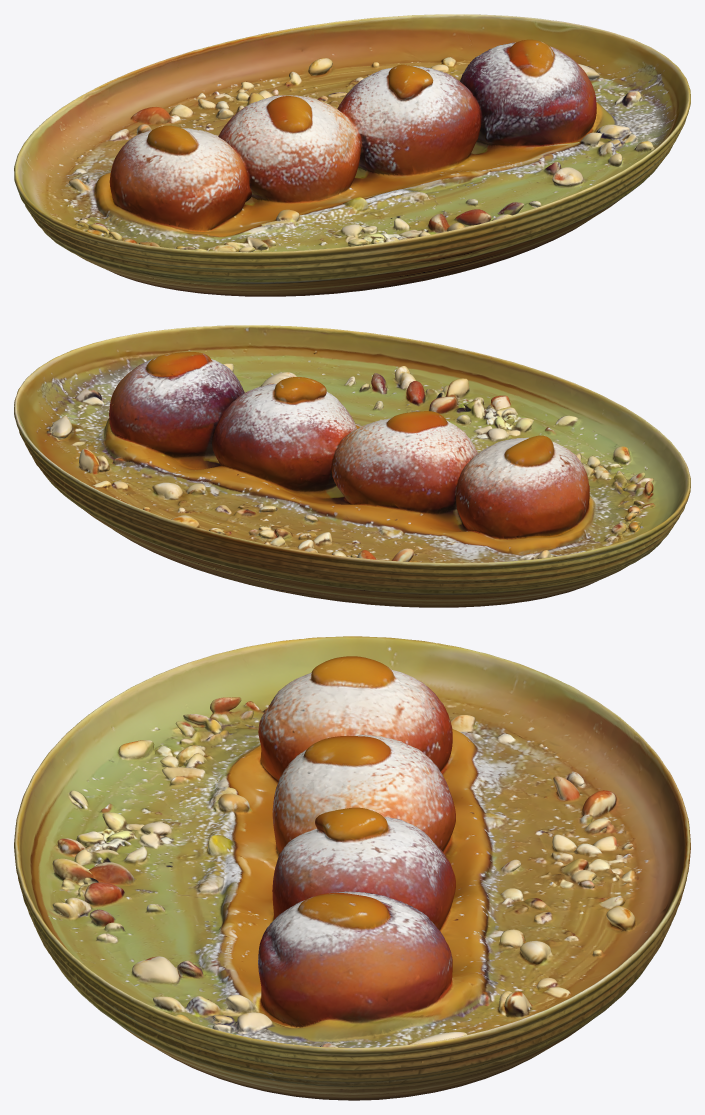
The model's file is Pistachio-Sauce-Bigne-with-Ricotta.glb.
The picture shows the model from 3 angles, top to bottom: view 1: azimuth 30°, elevation 25°; view 2: azimuth 150°, elevation 25°; view 3: azimuth 270°, elevation 25°; orthographic projection. The views are drawn at different scales.
Size of the model in its own units: 0.5695 by 0.1023 by 0.3937.
Materials: 1 (1 with a texture image).
